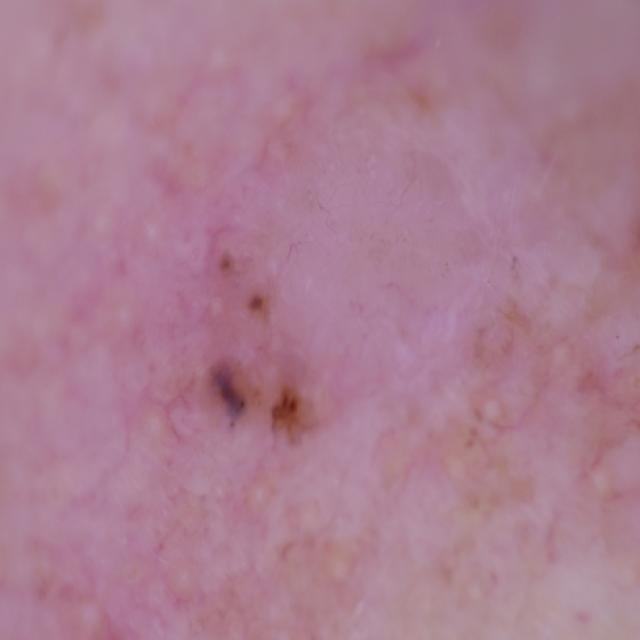Carcinoma: (176, 228, 335, 487)
